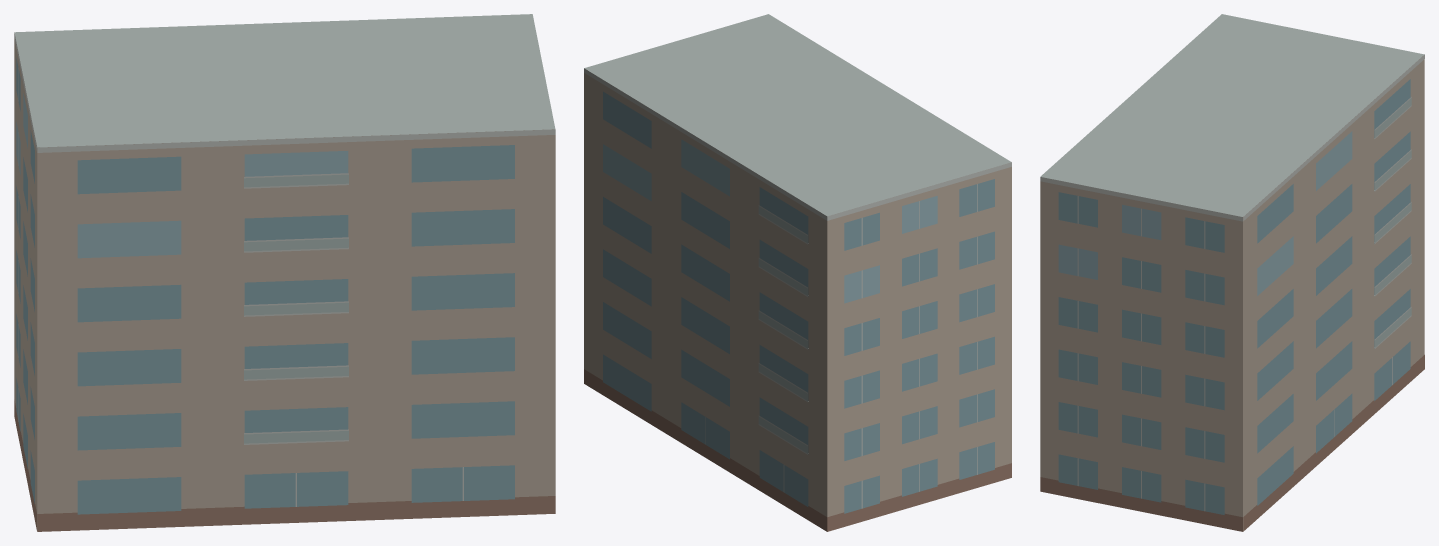
File: survey-upis-32552448.glb
The picture shows the model from 3 angles, left to right: view 1: azimuth 30°, elevation 25°; view 2: azimuth 150°, elevation 25°; view 3: azimuth 270°, elevation 25°; orthographic projection. The views are drawn at different scales.
Visible parts, largest first — view 1: survey-upis-32552448.tmp; view 2: survey-upis-32552448.tmp; view 3: survey-upis-32552448.tmp.
Boxes of the visible parts, x1,y1,x2,y2 form: survey-upis-32552448.tmp: [14, 14, 555, 531]; survey-upis-32552448.tmp: [584, 14, 1011, 531]; survey-upis-32552448.tmp: [1040, 14, 1424, 531].
Bounding box in the file's own units: 23.53 × 17 × 18.83.
